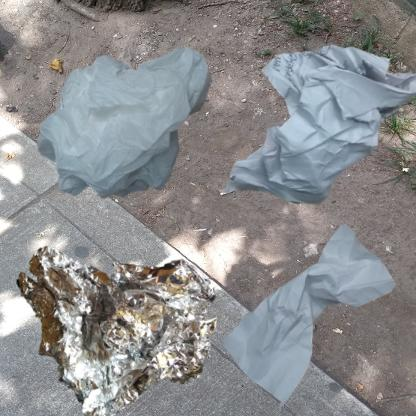aluminio: (10, 213, 243, 416)
bolsa: (10, 10, 299, 274)
papel: (213, 10, 416, 275), (213, 213, 403, 416)
